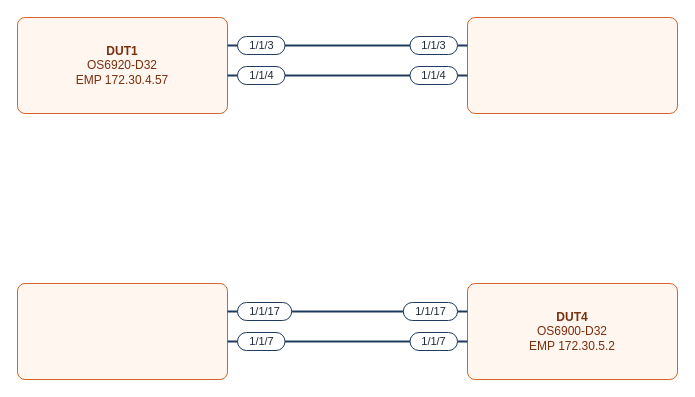
Image size: 695x397. Some labels were removed from this diagram. The centre of each missing label's shape, as x and y in pixels:
DUT2 OS6920-D32 EMP 172.30.4.58: the point at 572,65
DUT3 OS6900-D32 EMP 172.30.5.1: the point at 122,331
